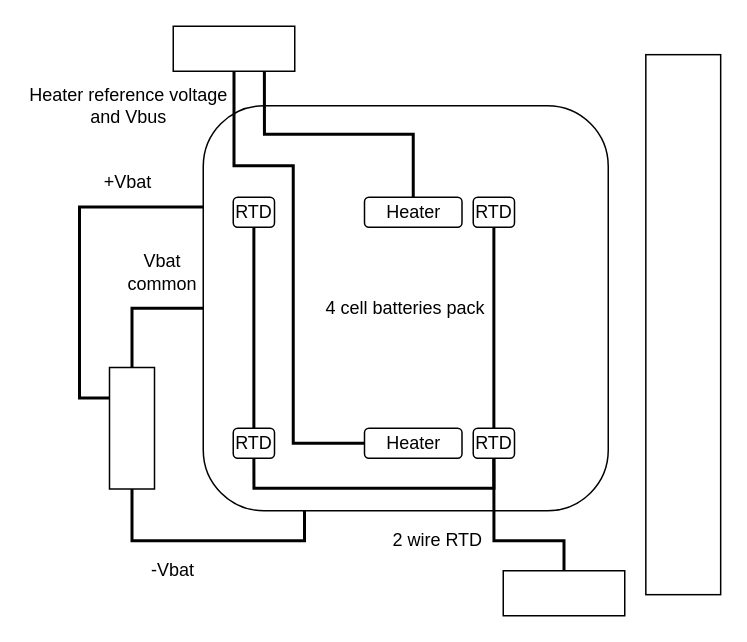
The diagram is 747 pixels wide and 642 high, and some of its shapes have lost their labels. The shapes that lost their labels are listed below. From the top down, each one's box as (x1, y1, x2, y2) in pixels, then its label:
(172, 25, 295, 71): Heater PicoBlade
(644, 53, 721, 595): PC104
(108, 366, 154, 489): EPS power pin header
(502, 569, 625, 616): RTD PicoBlade
